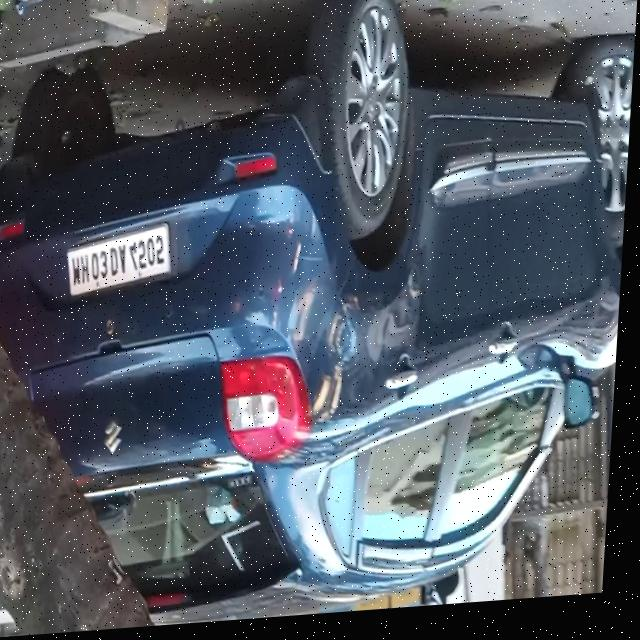plate: (64, 215, 183, 307)
